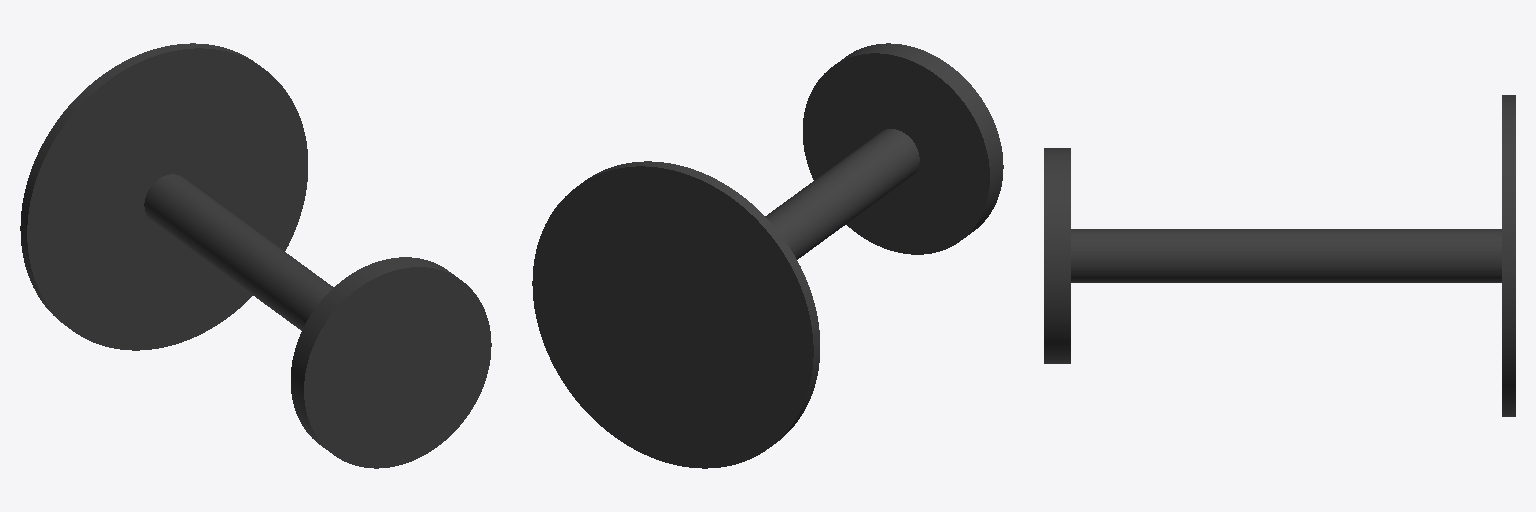
URDF robot description (kitchen):
<?xml version="1.0"?>
<robot name="kitchen">
        <link name="base">
        <visual>
            <!--origin xyz="0.001 0.00288 -0.013" rpy="0 0 0" /-->
            <origin xyz="0.0 0.0 0.0" rpy="0 0 0" />
            <geometry>
                <mesh filename="round_table.dae" scale="1 1 1"/>
            </geometry>
        </visual>
        <collision>
            <geometry>
                <mesh filename="round_table.dae" scale="1 1 1"/>
            </geometry>
        </collision>
        	<inertial>
        	 <origin xyz="0 0 0" rpy="0 0 0"/>
        	 <mass value="0.05"/>
        	 <inertia ixx="0.000683333"  ixy="0"  ixz="0" iyy="0.000683333" iyz="0" izz="0.000683333" />
       </inertial>
	</link>
</robot>

--- What the picture shows (computed from the rendered views, not written in the file) ---
Views: 3 orthographic renders of the robot side by side, from view 1: azimuth 30°, elevation 25°; view 2: azimuth 150°, elevation 25°; view 3: azimuth 270°, elevation 25°.
Model kitchen with 1 links and 0 joints (none), rooted at base, posed all joints at 0.
Links seen in each view (by area): view 1: base; view 2: base; view 3: base.
Link boxes in pixels (<box>): base: <box>20,43,491,468</box>; base: <box>532,43,1003,468</box>; base: <box>1044,95,1515,416</box>.
Bounding box of the posed robot: 600 × 875 × 600 m (x, y, z).
Meshes: 1 distinct files referenced, 1 mesh visuals loaded (1 Collada DAE).